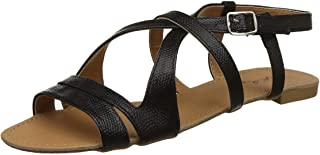shoes: (1, 1, 320, 155)
